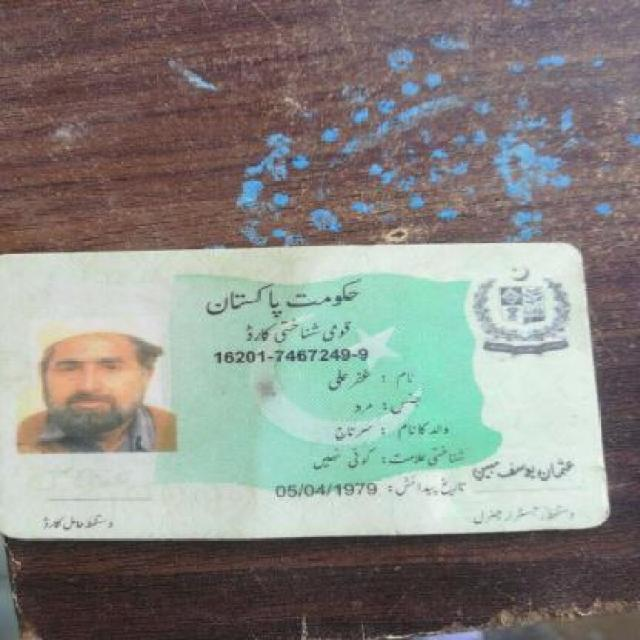Front: (6, 246, 617, 539)
